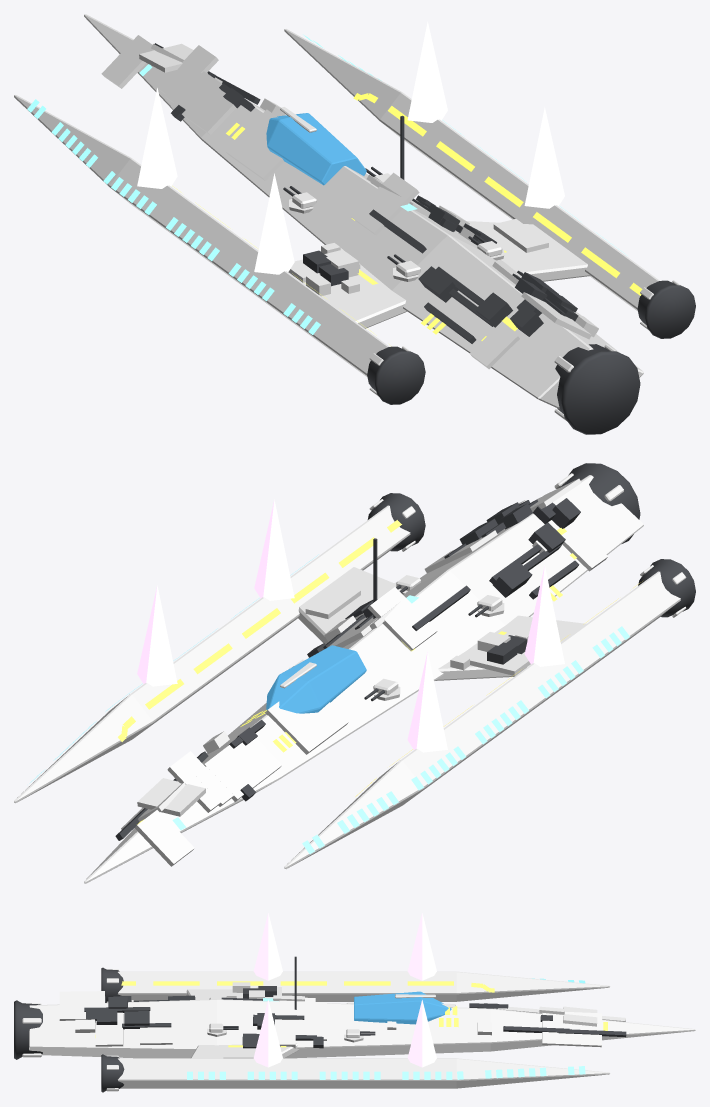
File: prizma.glb
The picture shows the model from 3 angles, top to bottom: view 1: azimuth 30°, elevation 25°; view 2: azimuth 150°, elevation 25°; view 3: azimuth 270°, elevation 25°; orthographic projection. The views are drawn at different scales.
Visible parts, largest first — view 1: Корпус, Накладные_плиты, Зубец.001, Зубец, Механика, Кожух_дюзы.002, Кабина, Перемычка, Решётки, Перемычка.001, Разметка, Кожух_дюзы.001 (+5 smaller); view 2: Корпус, Накладные_плиты, Зубец.001, Зубец, Механика, Кабина, Решётки, Разметка, Перемычка, Призма.003, Призма.001, Призма.002 (+5 smaller); view 3: Корпус, Зубец, Зубец.001, Накладные_плиты, Механика, Кабина, Решётки, Разметка, Призма.001, Призма.002, Призма, Призма.003 (+5 smaller).
Boxes of the visible parts, bbox=[...] form: Корпус: bbox=[84, 14, 643, 409]; Накладные_плиты: bbox=[101, 35, 598, 369]; Зубец.001: bbox=[14, 95, 389, 377]; Зубец: bbox=[284, 29, 659, 311]; Механика: bbox=[154, 43, 578, 343]; Кожух_дюзы.002: bbox=[555, 344, 640, 434]; Кабина: bbox=[266, 113, 366, 185]; Перемычка: bbox=[456, 221, 590, 281]; Решётки: bbox=[27, 34, 627, 334]; Перемычка.001: bbox=[300, 248, 406, 328]; Разметка: bbox=[172, 93, 642, 346]; Кожух_дюзы.001: bbox=[367, 346, 425, 404]; Корпус: bbox=[84, 475, 643, 883]; Накладные_плиты: bbox=[121, 478, 607, 866]; Зубец.001: bbox=[284, 571, 680, 868]; Зубец: bbox=[14, 505, 410, 802]; Механика: bbox=[115, 498, 580, 840]; Кабина: bbox=[266, 645, 366, 713]; Решётки: bbox=[29, 554, 629, 853]; Разметка: bbox=[118, 520, 642, 824]; Перемычка: bbox=[297, 567, 393, 644]; Призма.003: bbox=[524, 565, 564, 666]; Призма.001: bbox=[254, 499, 294, 600]; Призма.002: bbox=[407, 651, 447, 752]; Корпус: bbox=[29, 999, 695, 1058]; Зубец: bbox=[118, 1058, 610, 1088]; Зубец.001: bbox=[118, 971, 610, 1001]; Накладные_плиты: bbox=[59, 982, 625, 1058]; Механика: bbox=[84, 956, 626, 1048]; Кабина: bbox=[354, 991, 451, 1024]; Решётки: bbox=[187, 978, 585, 1079]; Разметка: bbox=[95, 981, 607, 1047]; Призма.001: bbox=[253, 999, 282, 1067]; Призма.002: bbox=[407, 913, 436, 980]; Призма: bbox=[407, 1000, 436, 1067]; Призма.003: bbox=[253, 913, 282, 980].
Bounding box in the file's own units: 0.7125 × 0.3482 × 1.99.
